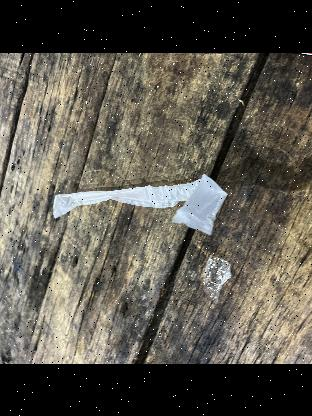Others: (48, 177, 234, 231), (199, 254, 232, 292)
